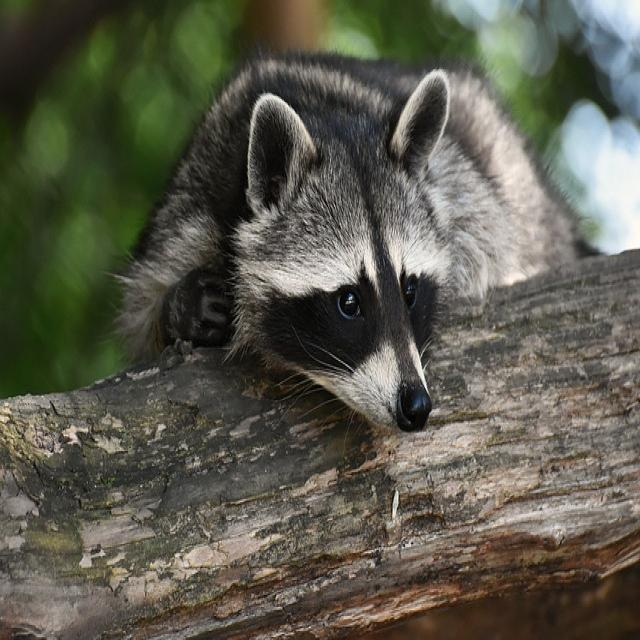Carnivorous: (112, 52, 600, 435)
